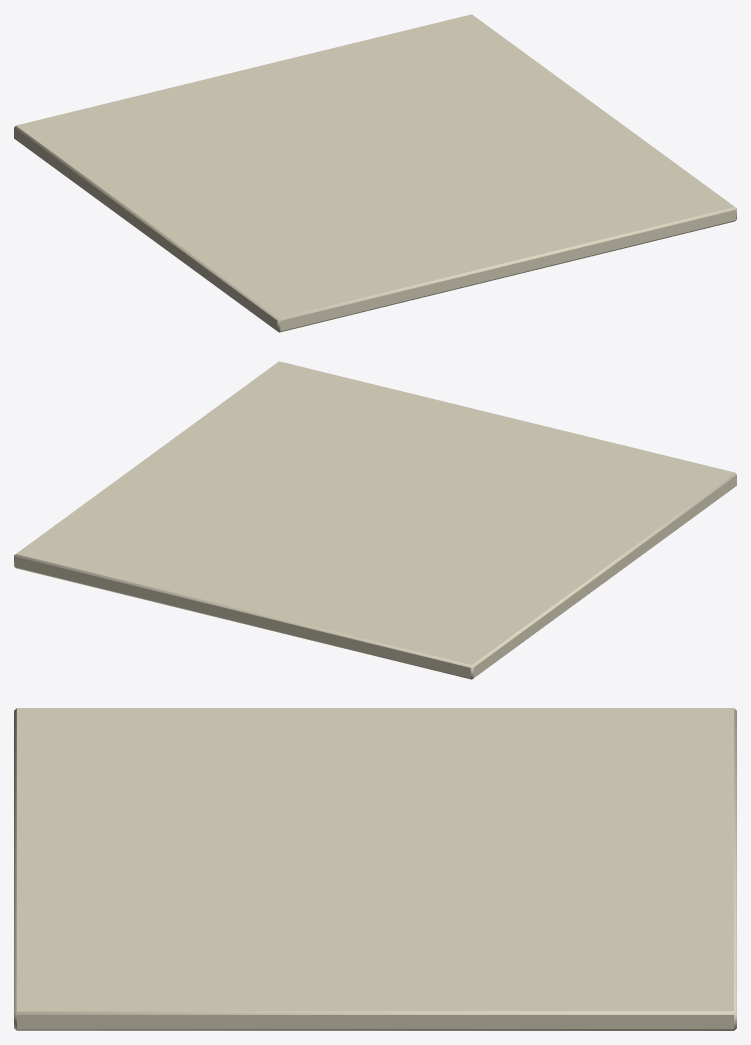
Rendered from ceilingpanel_sprinkler_1x1.glb.
The picture shows the model from 3 angles, top to bottom: view 1: azimuth 30°, elevation 25°; view 2: azimuth 150°, elevation 25°; view 3: azimuth 270°, elevation 25°; orthographic projection. The views are drawn at different scales.
Parts seen in each view (by area): view 1: ceilingpanel_sprinkler_1x1; view 2: ceilingpanel_sprinkler_1x1; view 3: ceilingpanel_sprinkler_1x1.
Part boxes in pixels (x1=…): ceilingpanel_sprinkler_1x1: x1=14, y1=14, x2=736, y2=332; ceilingpanel_sprinkler_1x1: x1=14, y1=361, x2=736, y2=679; ceilingpanel_sprinkler_1x1: x1=14, y1=708, x2=736, y2=1030.
Bounding box in the file's own units: 1 × 0.18 × 1.
